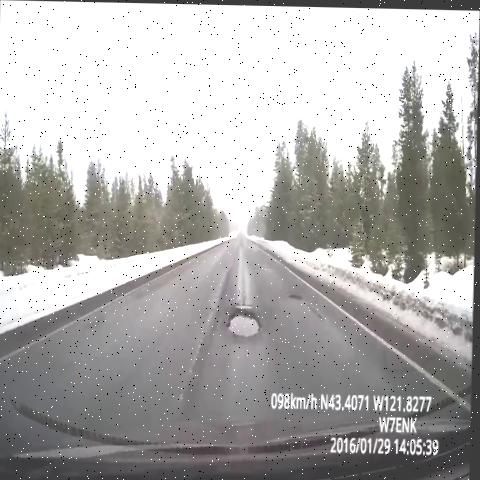pothole: (219, 289, 274, 354), (286, 281, 310, 305)
